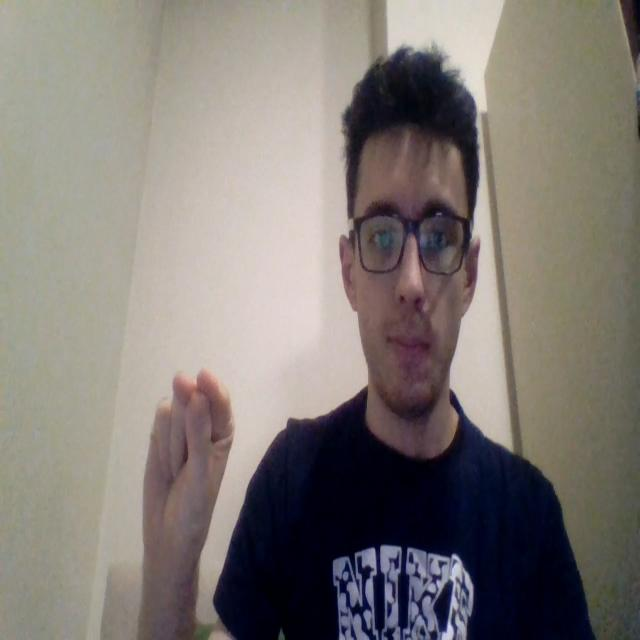no: (136, 367, 235, 638)
